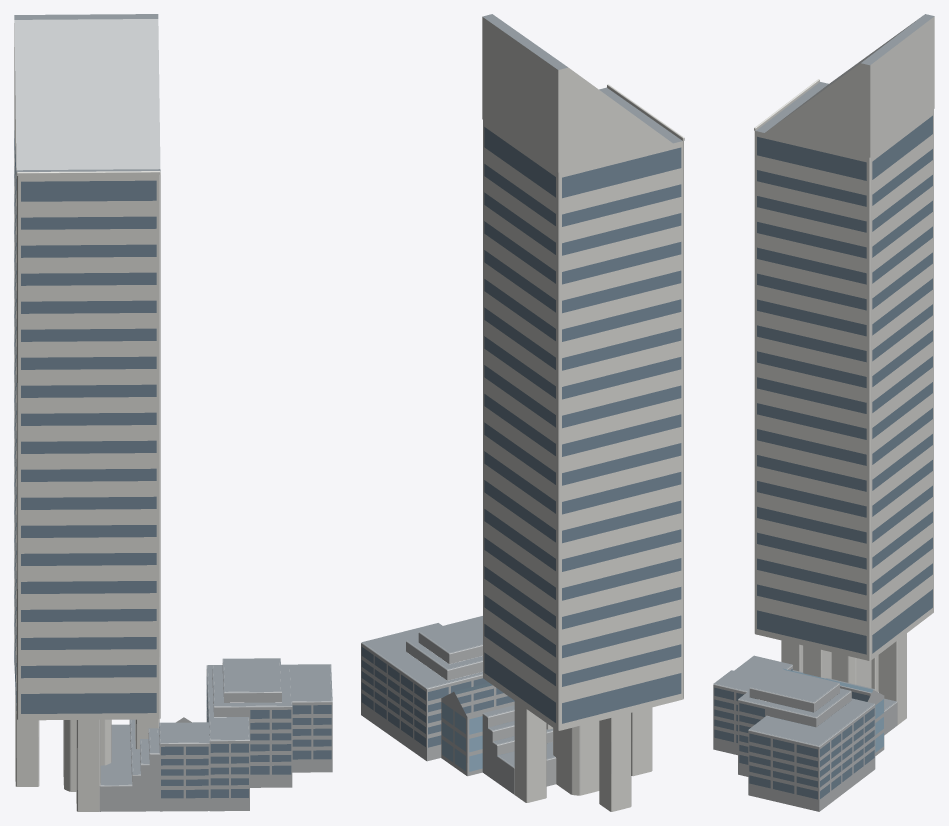
The model's file is detail.glb.
3 renders of one model, left to right at view 1: azimuth 30°, elevation 25°; view 2: azimuth 150°, elevation 25°; view 3: azimuth 270°, elevation 25°, orthographic. The views are drawn at different scales.
Parts seen in each view (by area): view 1: citigroup-center; view 2: citigroup-center; view 3: citigroup-center.
Part boxes in pixels (<box>): citigroup-center: <box>14,14,332,811</box>; citigroup-center: <box>361,14,684,811</box>; citigroup-center: <box>713,14,934,811</box>.
Bounding box in the file's own units: 125 × 280 × 82.53.
